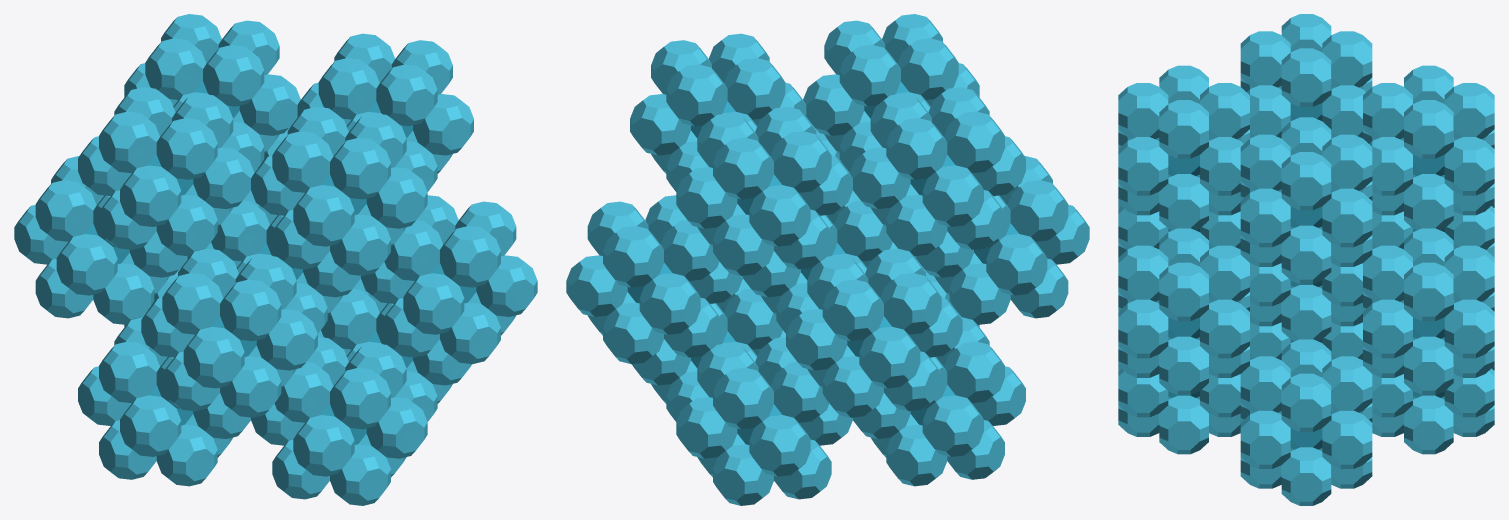
The model's file is fractaltruncatedcuboctahedron2.glb.
3 views of the same model, side by side, from view 1: azimuth 30°, elevation 25°; view 2: azimuth 150°, elevation 25°; view 3: azimuth 270°, elevation 25° (orthographic). The views are drawn at different scales.
Bounding box in the file's own units: 8.3 × 8.3 × 8.3.
